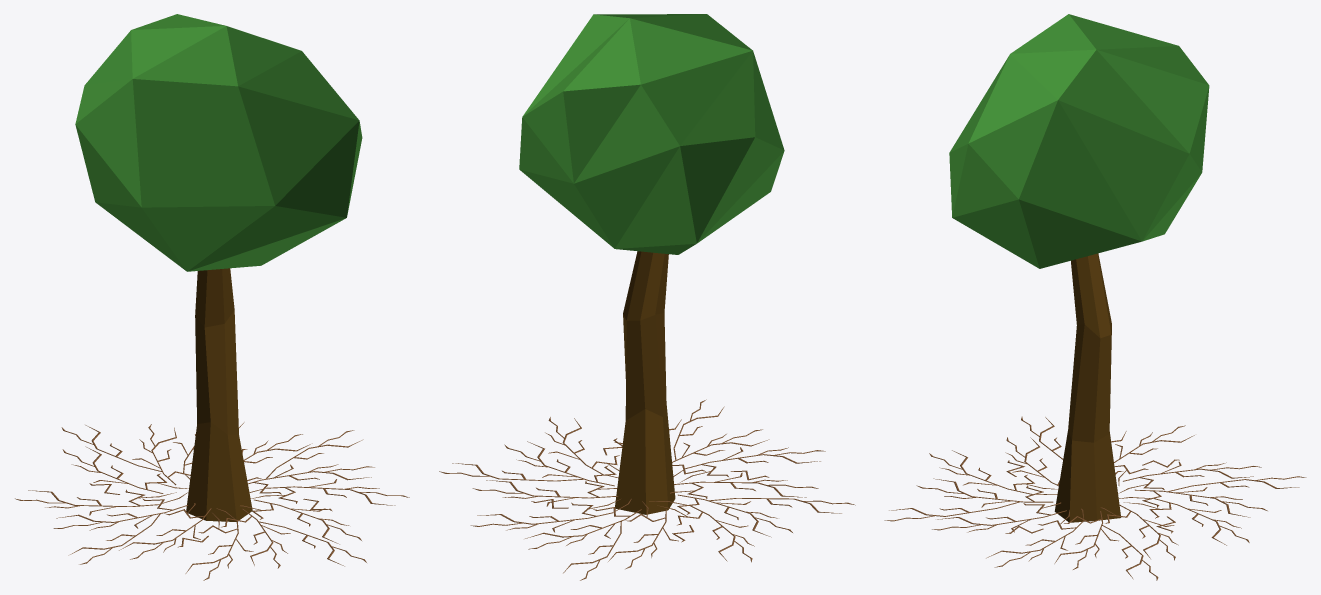
File: TreeRoots_430.gltf
The picture shows the model from 3 angles, left to right: view 1: azimuth 30°, elevation 25°; view 2: azimuth 150°, elevation 25°; view 3: azimuth 270°, elevation 25°; orthographic projection. The views are drawn at different scales.
Parts seen in each view (by area): view 1: node-0; view 2: node-0; view 3: node-0.
Part boxes in pixels (x1=…): node-0: x1=15, y1=14, x2=409, y2=580; node-0: x1=439, y1=14, x2=855, y2=580; node-0: x1=884, y1=14, x2=1306, y2=580.
Size of the model in its own units: 174 by 231 by 189.
